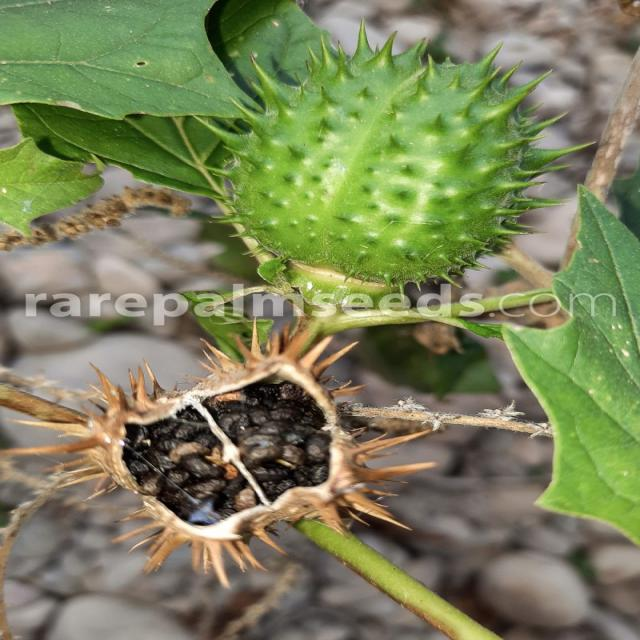Poisonous-Datura_Stramonium: (4, 330, 528, 613), (225, 22, 594, 340)
